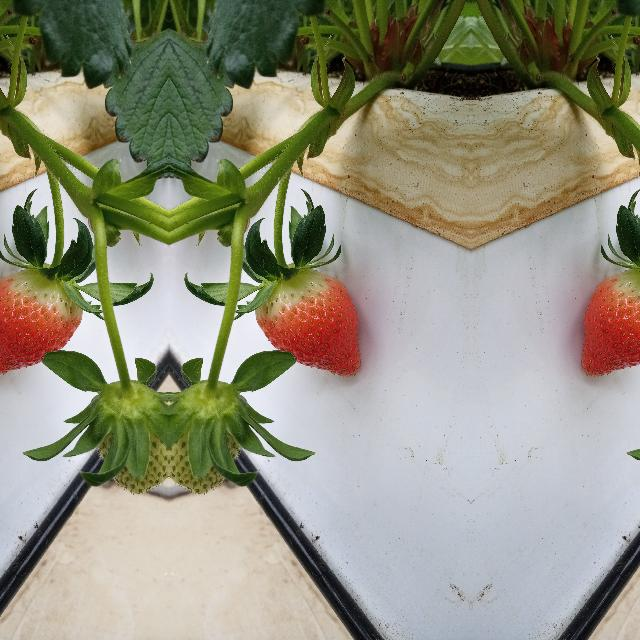Health_100: (254, 268, 360, 378), (0, 268, 82, 377), (580, 268, 640, 377)
Health_25: (172, 374, 236, 496), (100, 374, 164, 496)
